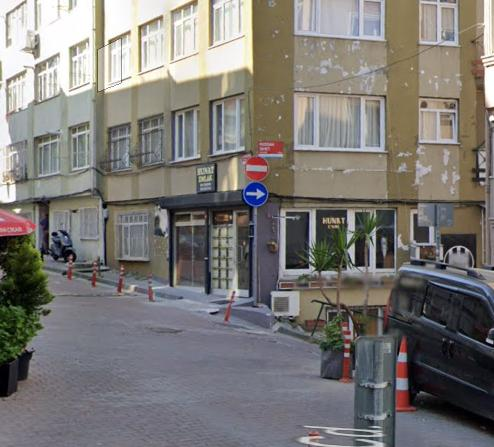turnright: (244, 182, 269, 206)
